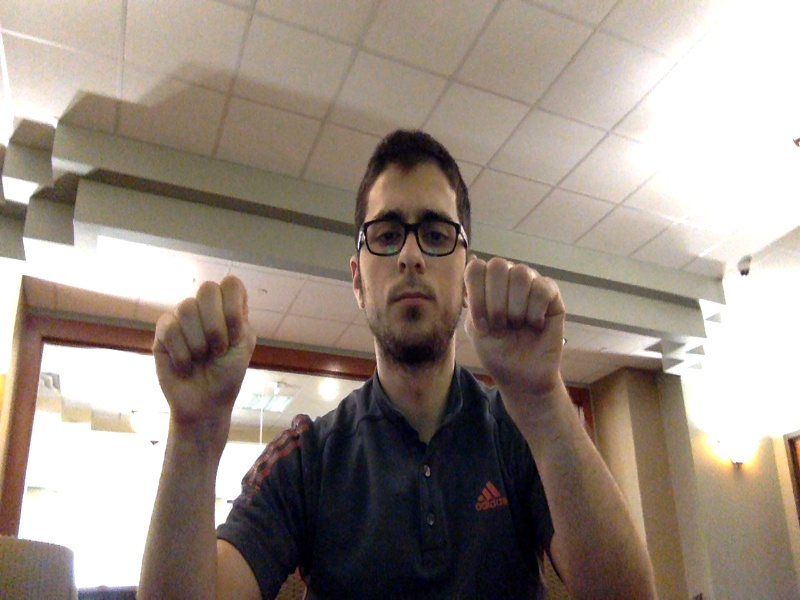0-hand: (151, 276, 255, 424), (463, 256, 562, 392)
